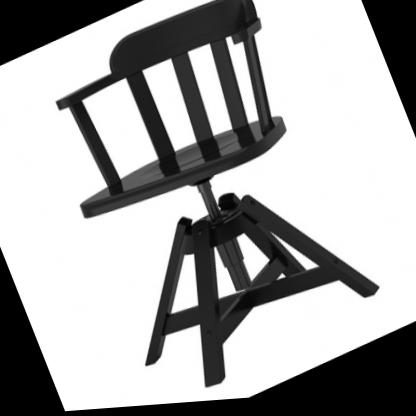Chair: (24, 0, 390, 415)
